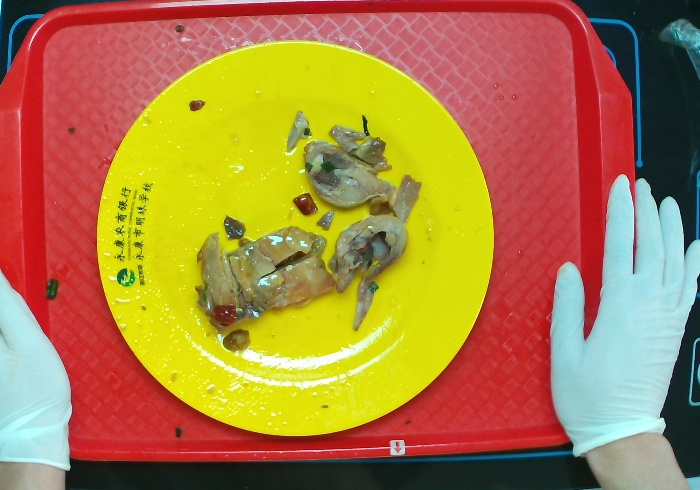YKMZ-Huang_Se_Mian_Pan: (95, 38, 495, 437)
